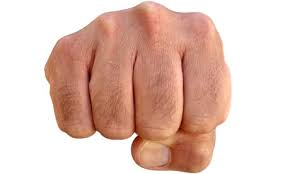fist: (52, 4, 229, 164)
